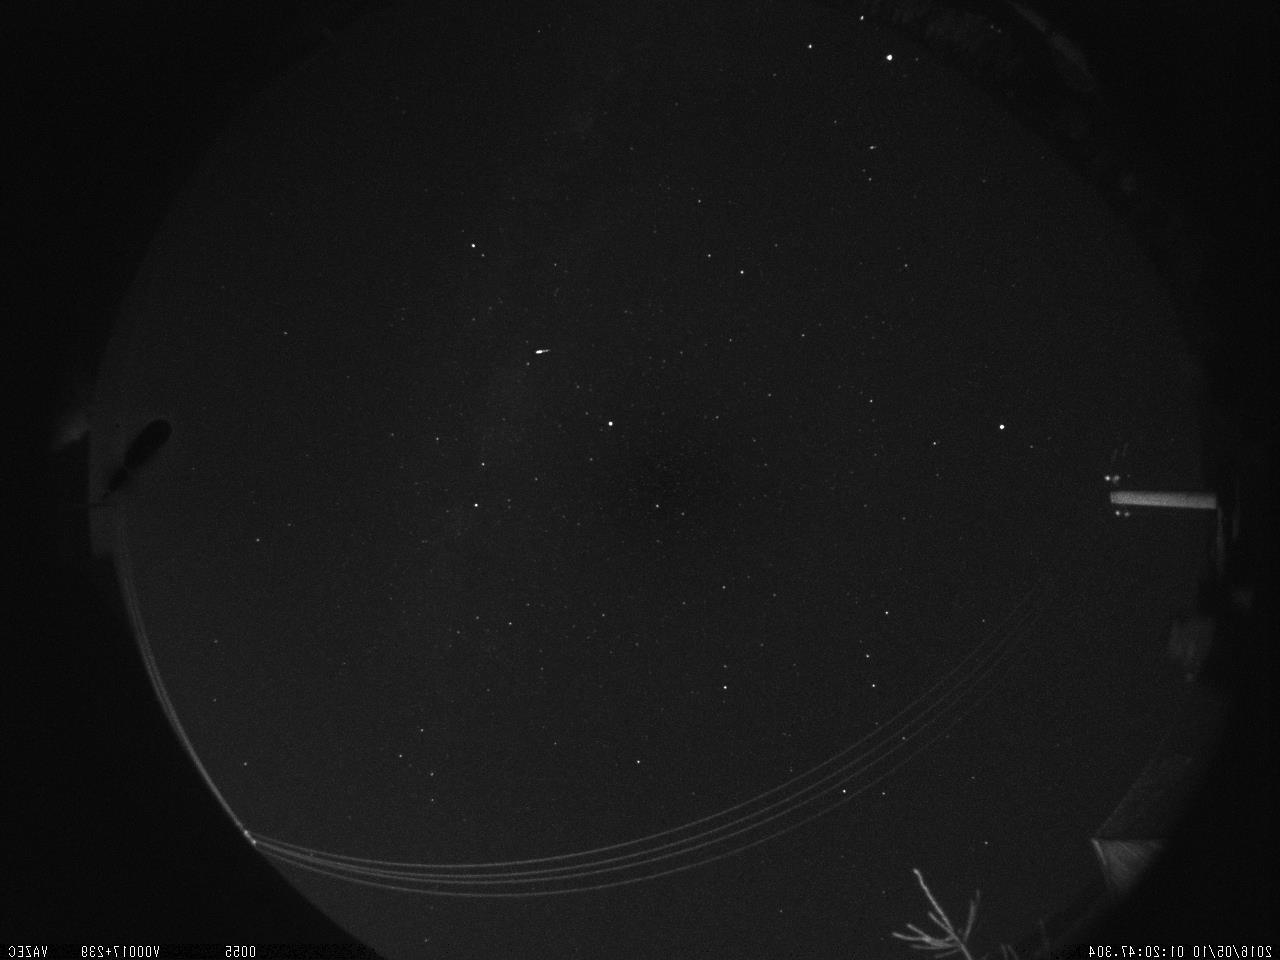meteor: (529, 342, 559, 360)
